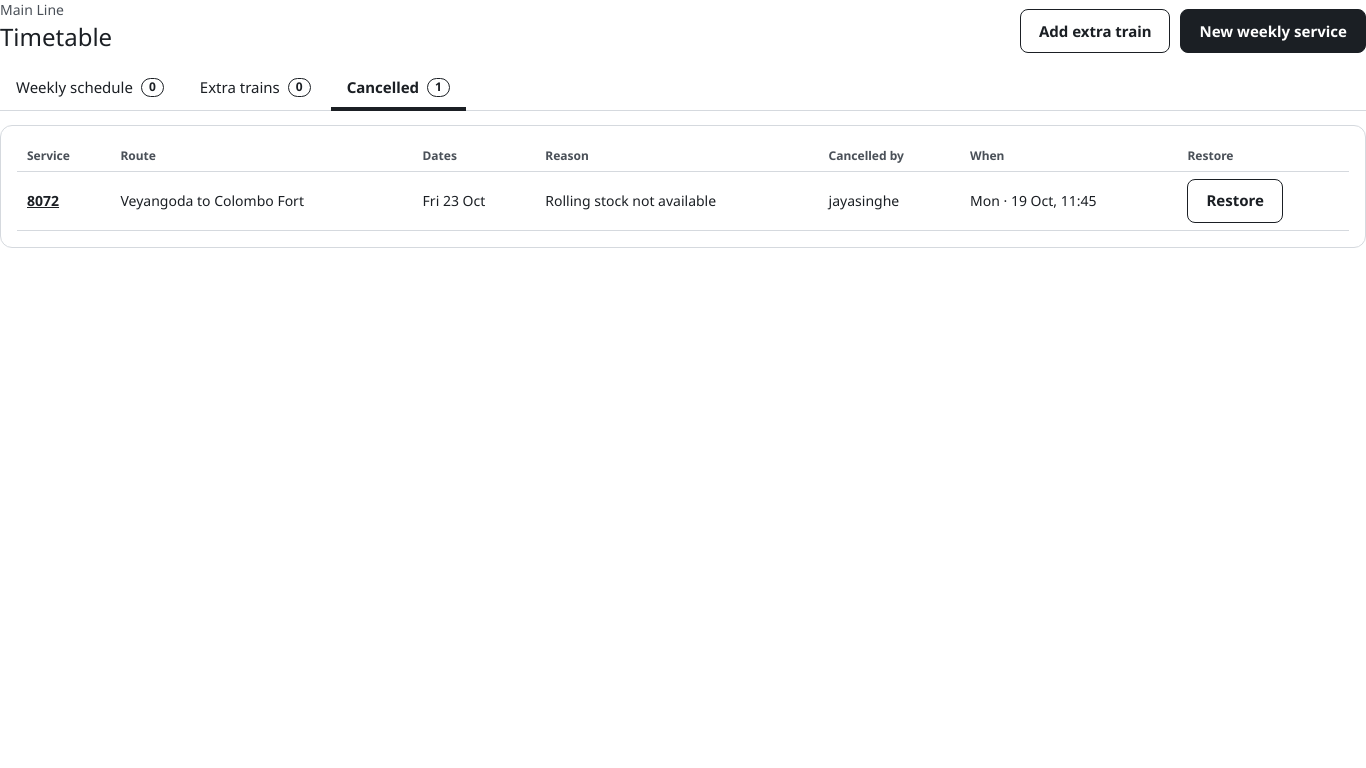
Timetable (spec 15, W1) › restores a cancelled service after a confirm, and says what came back
Click the button with aria-label "Restore service 8072". click: coordinates (1235, 201)
box: [1187, 179, 1283, 223]
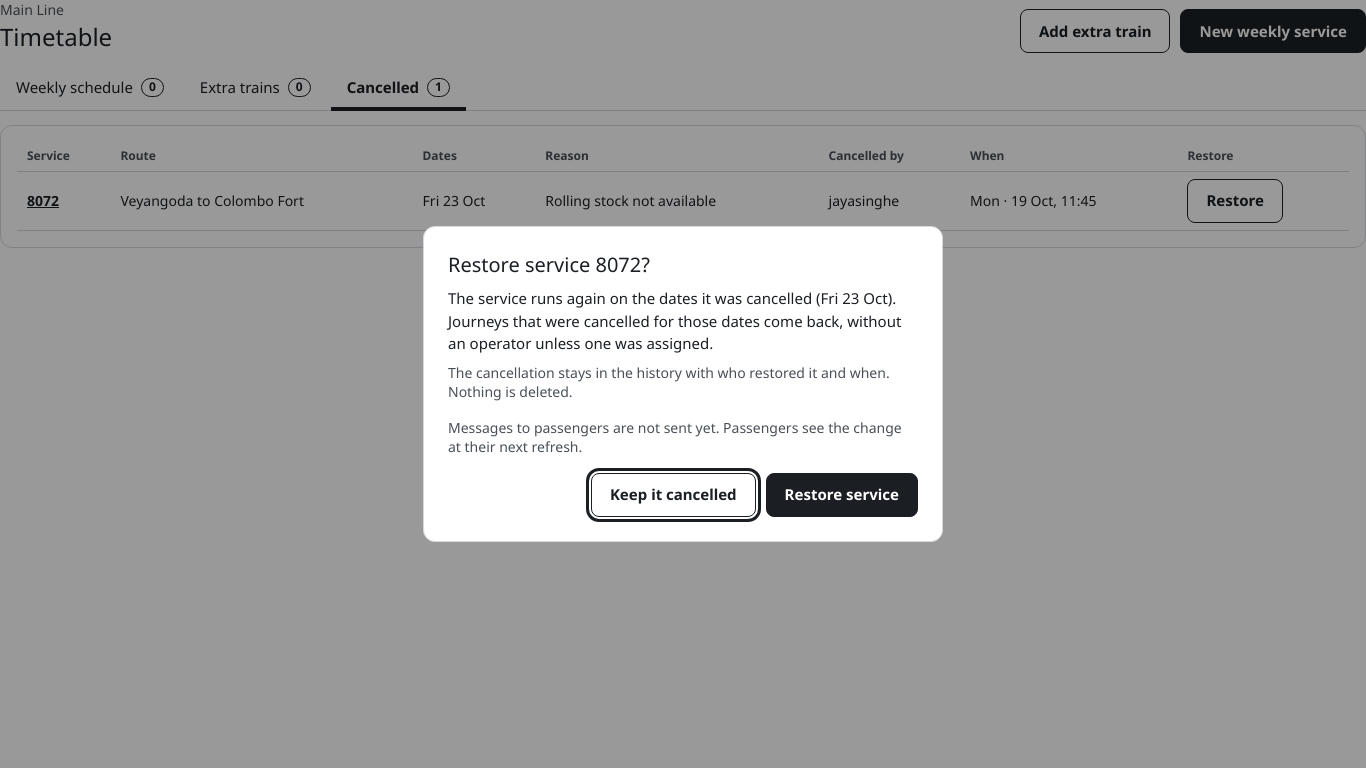
Check: the heading "Restore service 8072?" is shown, box [448, 251, 650, 278]
Check: the text "Nothing is deleted" is shown, box [448, 363, 890, 401]
Click the button "Restore service". click: coordinates (842, 495)
box: [766, 473, 918, 517]
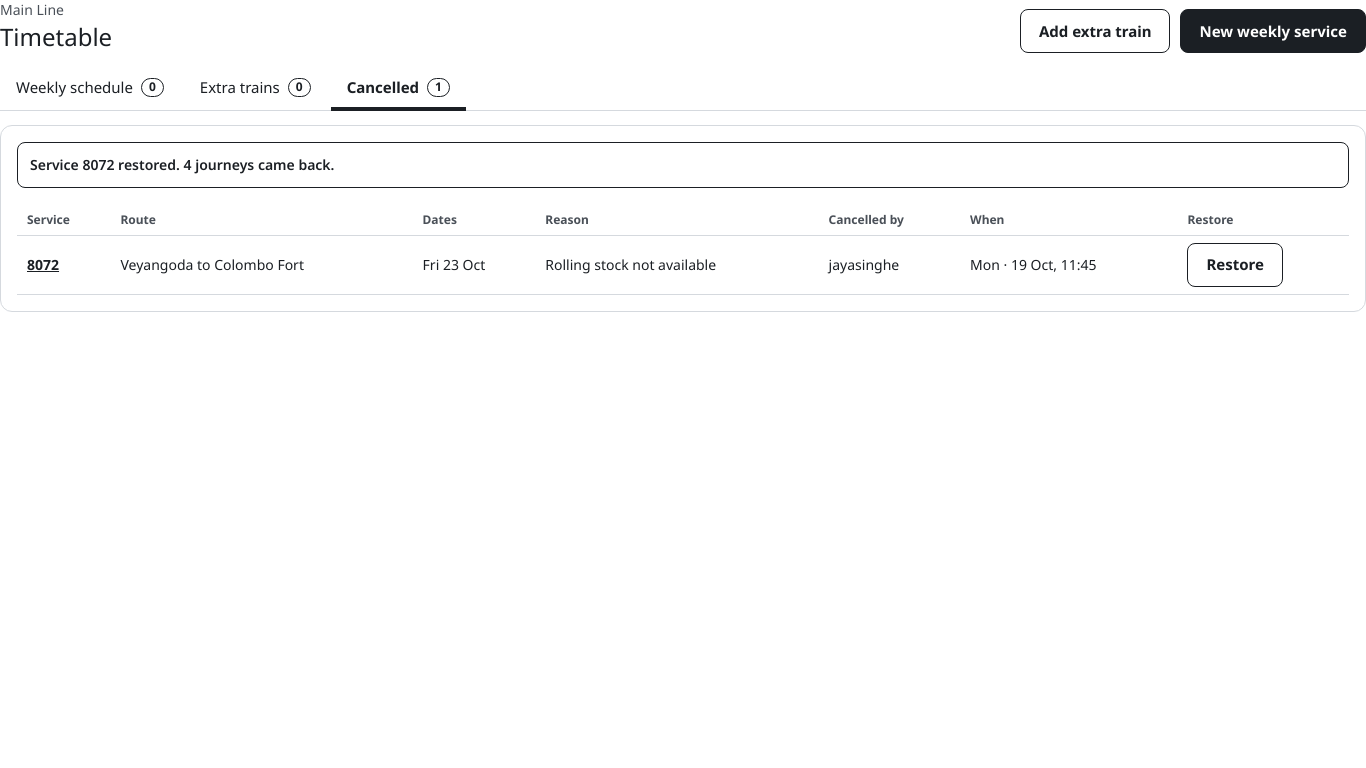
Check: the text "Service 8072 restored. 4 journeys came back." is shown, box [17, 142, 1349, 188]
